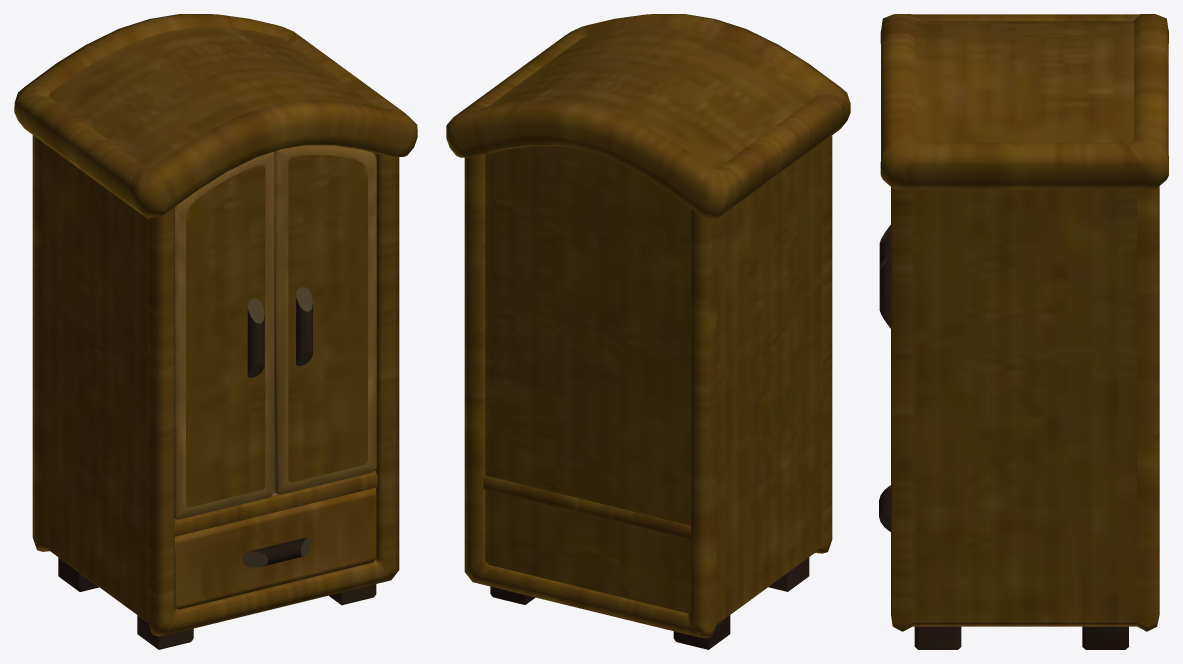
3 renders of one model, left to right at view 1: azimuth 30°, elevation 25°; view 2: azimuth 150°, elevation 25°; view 3: azimuth 270°, elevation 25°, orthographic. The views are drawn at different scales.
Size of the model in its own units: 9.68 by 17.26 by 8.18.
Materials: 1 (1 with a texture image).
